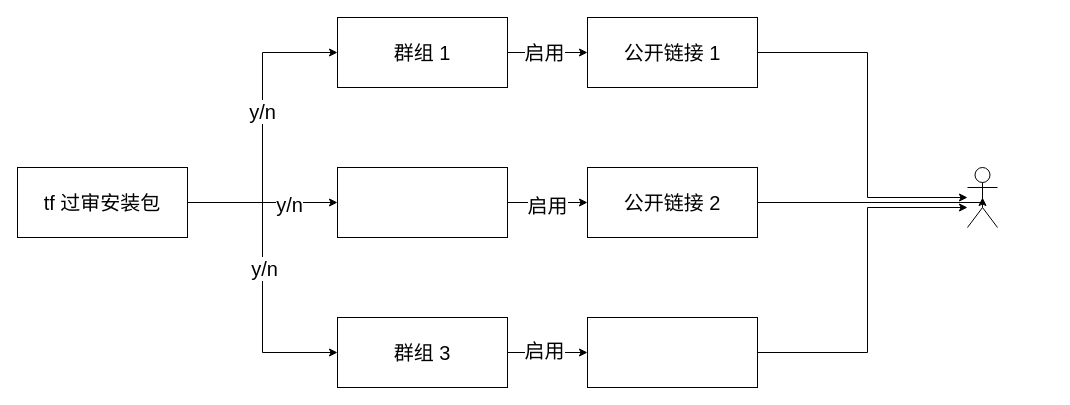
The diagram is 1070 pixels wide and 405 high, and some of its shapes have lost their labels. The centre of each missing label's shape, as x and y in pixels:
"任何的苹果设备" goes at (x=982, y=197).
"公开链接 3" goes at (x=672, y=352).
"群组 2" goes at (x=422, y=202).
